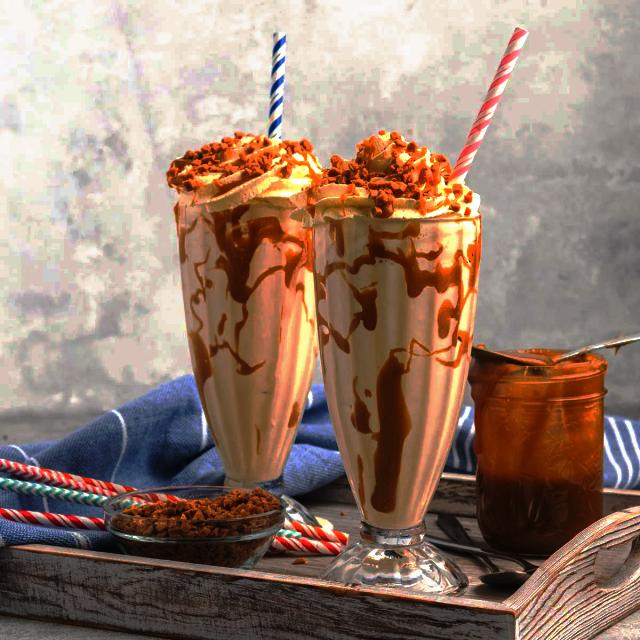Hashbrown: (110, 486, 282, 567)
drink: (302, 132, 464, 546), (168, 128, 330, 483)
